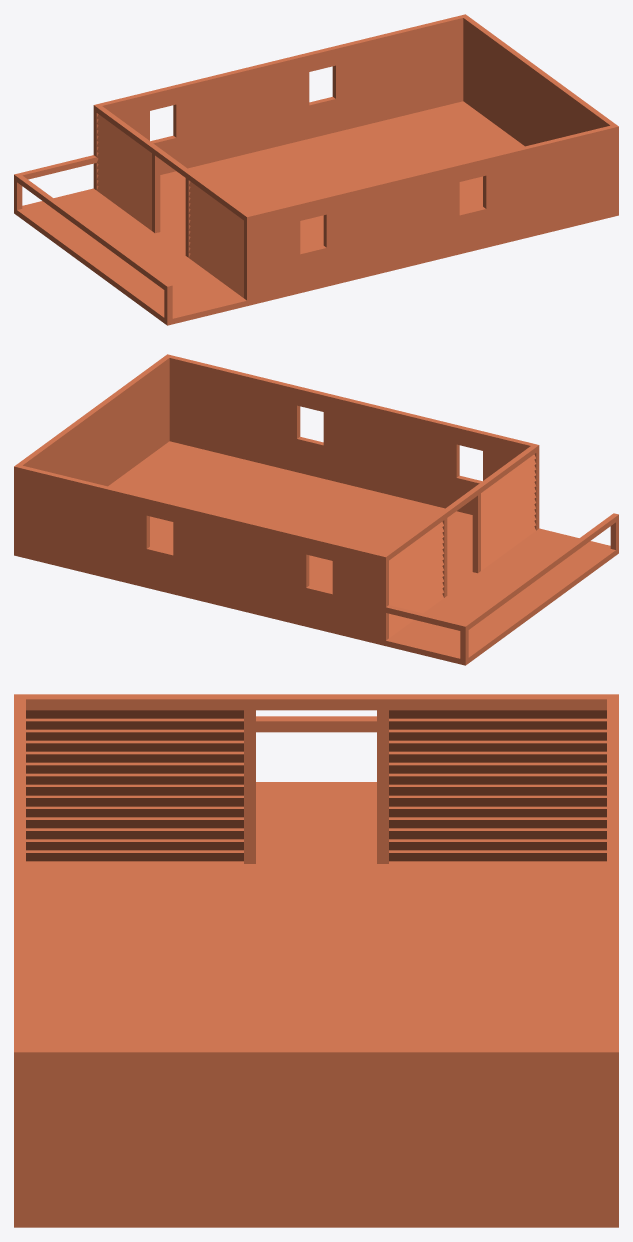
The model's file is domek2.fbx.
3 views of the same model, one above another, from view 1: azimuth 30°, elevation 25°; view 2: azimuth 150°, elevation 25°; view 3: azimuth 270°, elevation 25° (orthographic). The views are drawn at different scales.
Visible parts, largest first — view 1: Cube.036; view 2: Cube.036; view 3: Cube.036.
Boxes of the visible parts, x1,y1,x2,y2 form: Cube.036: [14, 14, 618, 325]; Cube.036: [14, 354, 618, 665]; Cube.036: [14, 694, 618, 1227].
Bounding box in the file's own units: 1700 × 320 × 1000.
